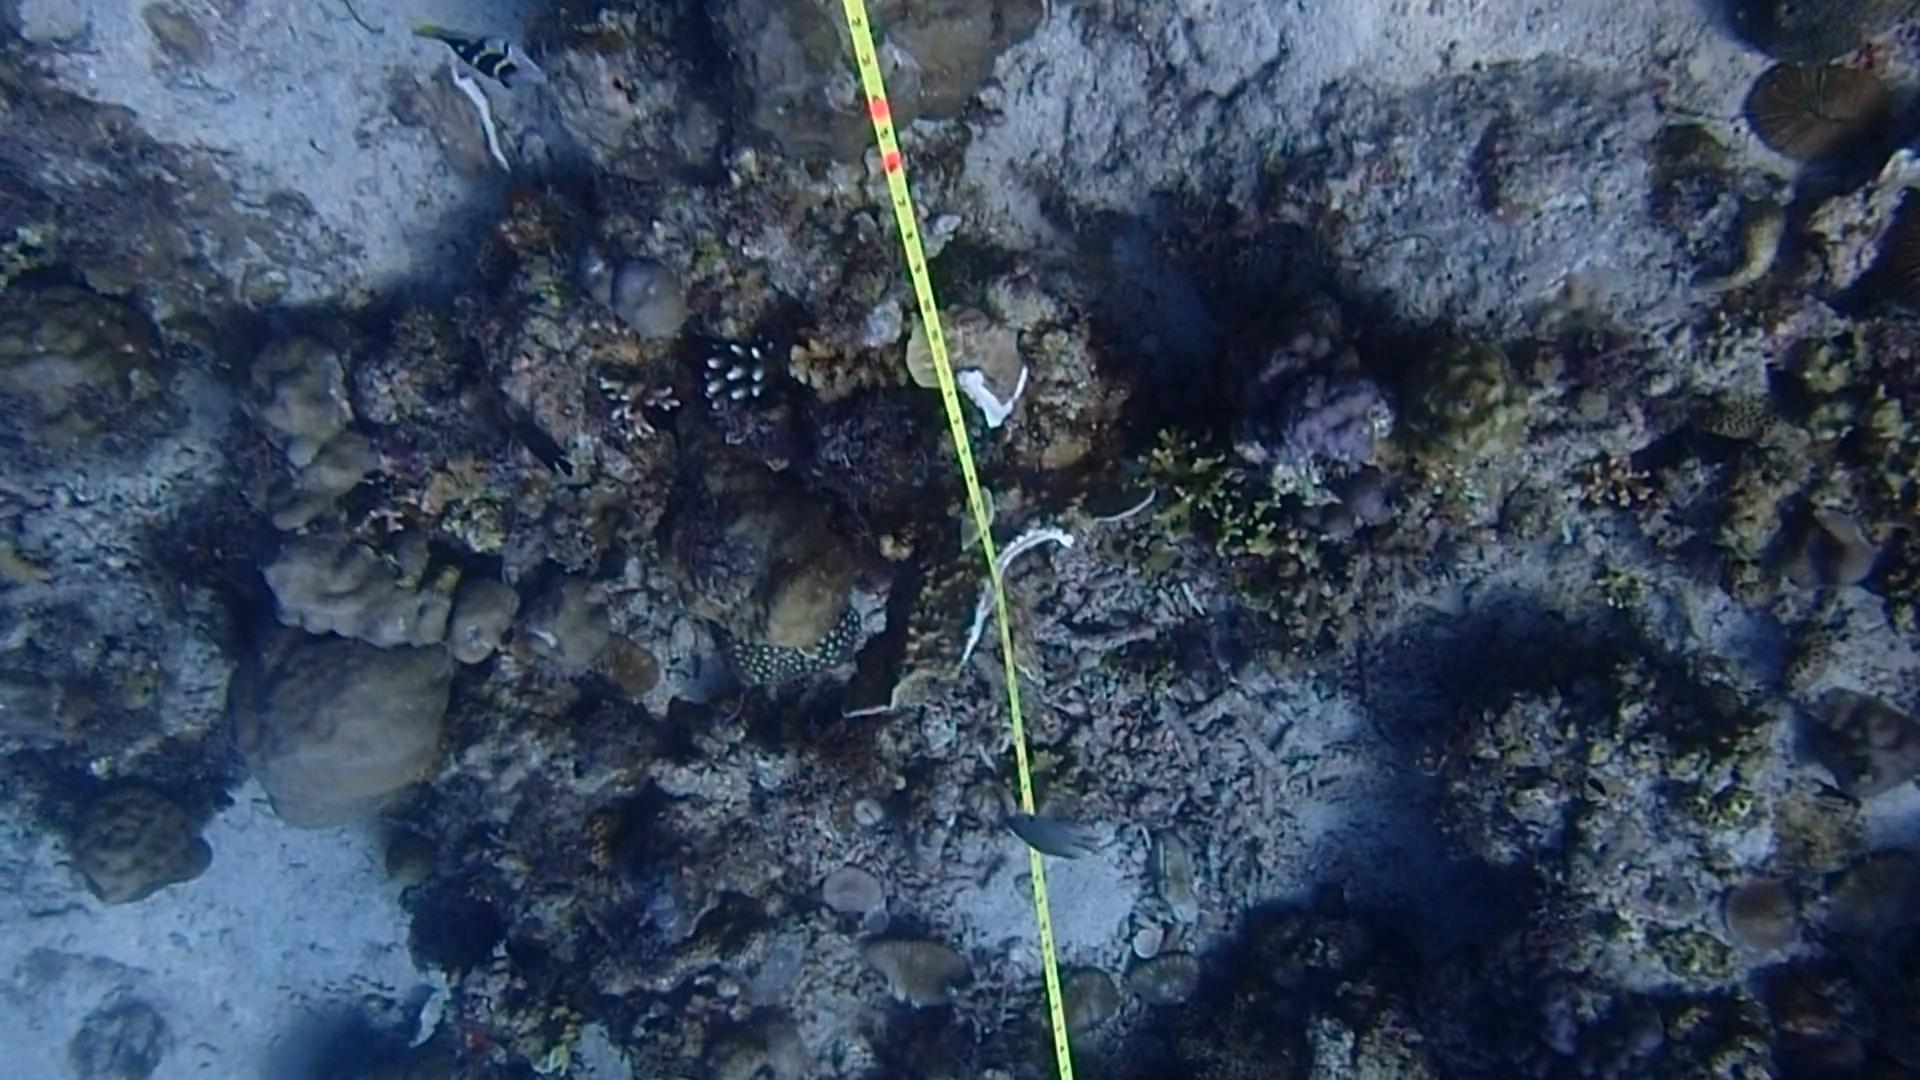Striped Fish: (414, 21, 539, 92)
